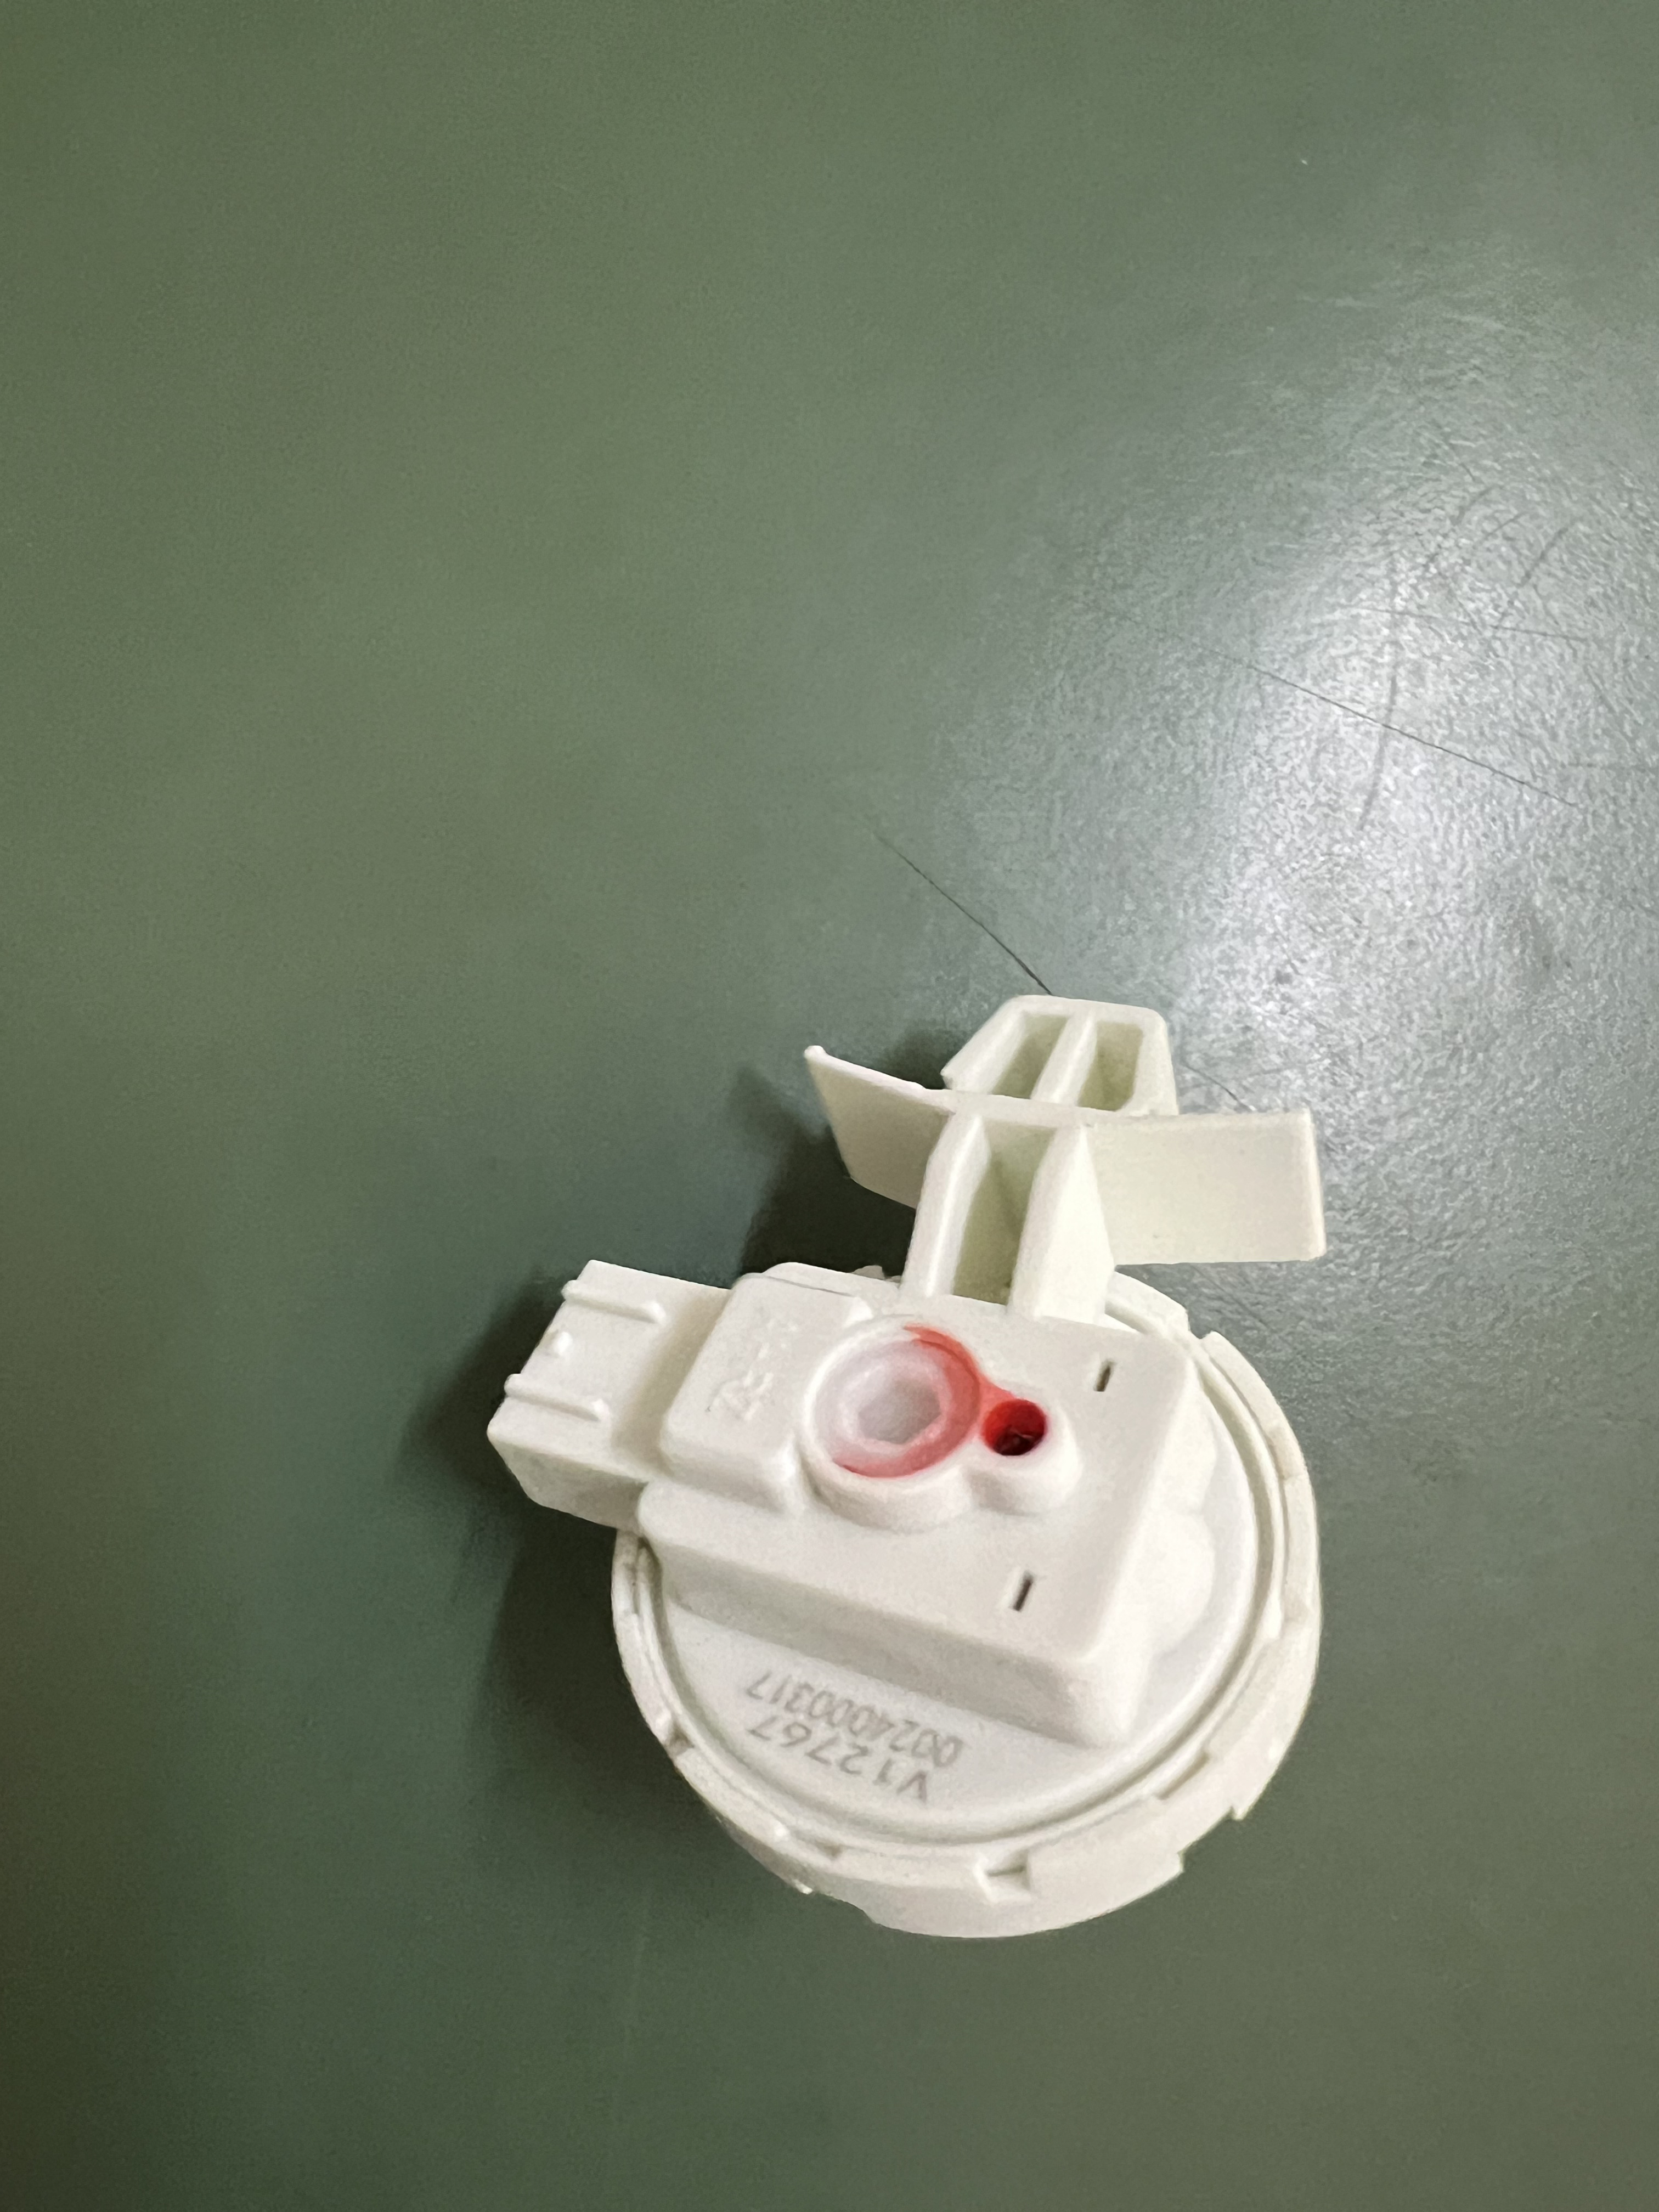pressure_switch_2: (500, 972, 1415, 1986)
